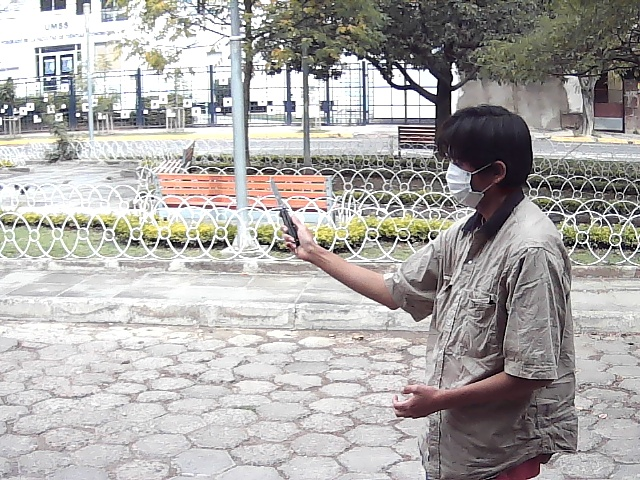cuchillo: (261, 172, 319, 260)
